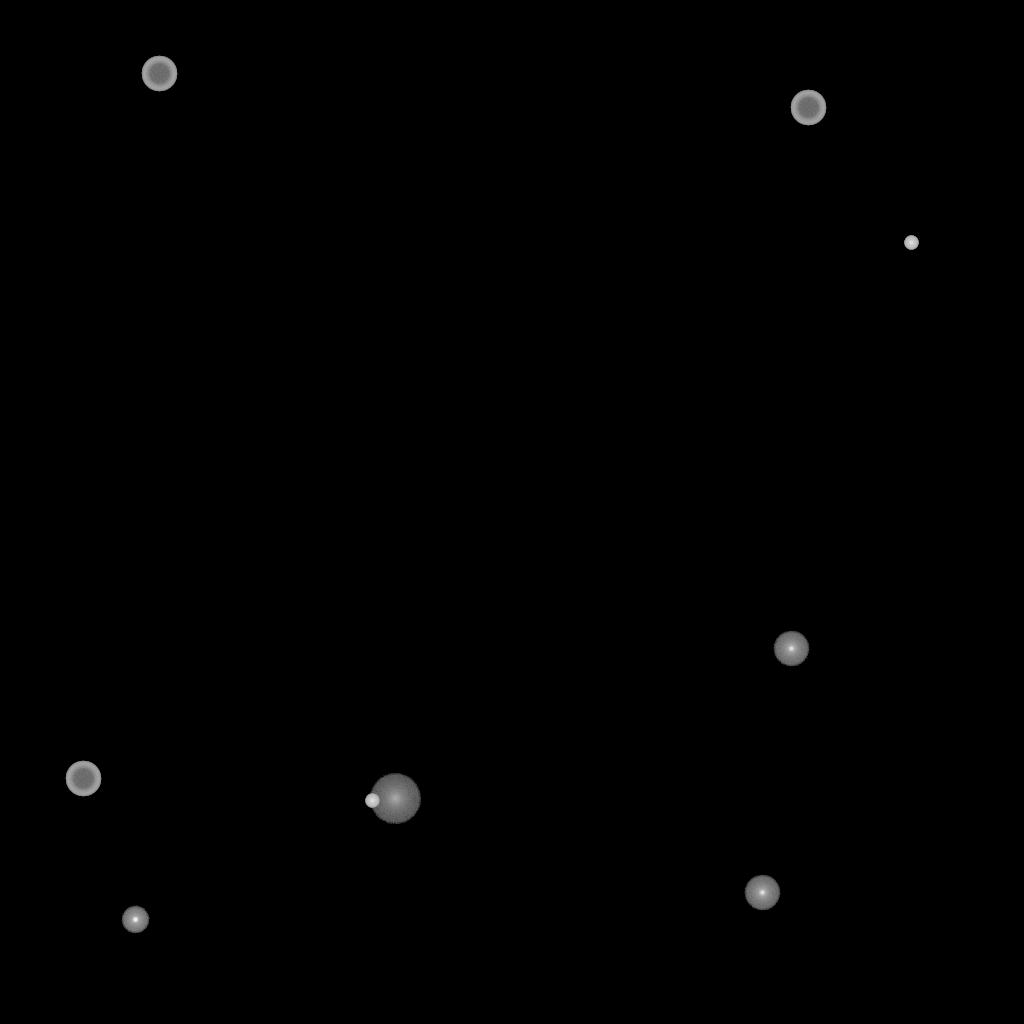depth:-10: (121, 906, 149, 934)
depth:-30: (365, 794, 379, 808), (904, 236, 918, 250)
depth:-60: (790, 90, 826, 126), (65, 761, 101, 797), (141, 56, 177, 92)
depth:0: (744, 875, 780, 911), (773, 631, 809, 667)
depth:20: (369, 774, 421, 824)
